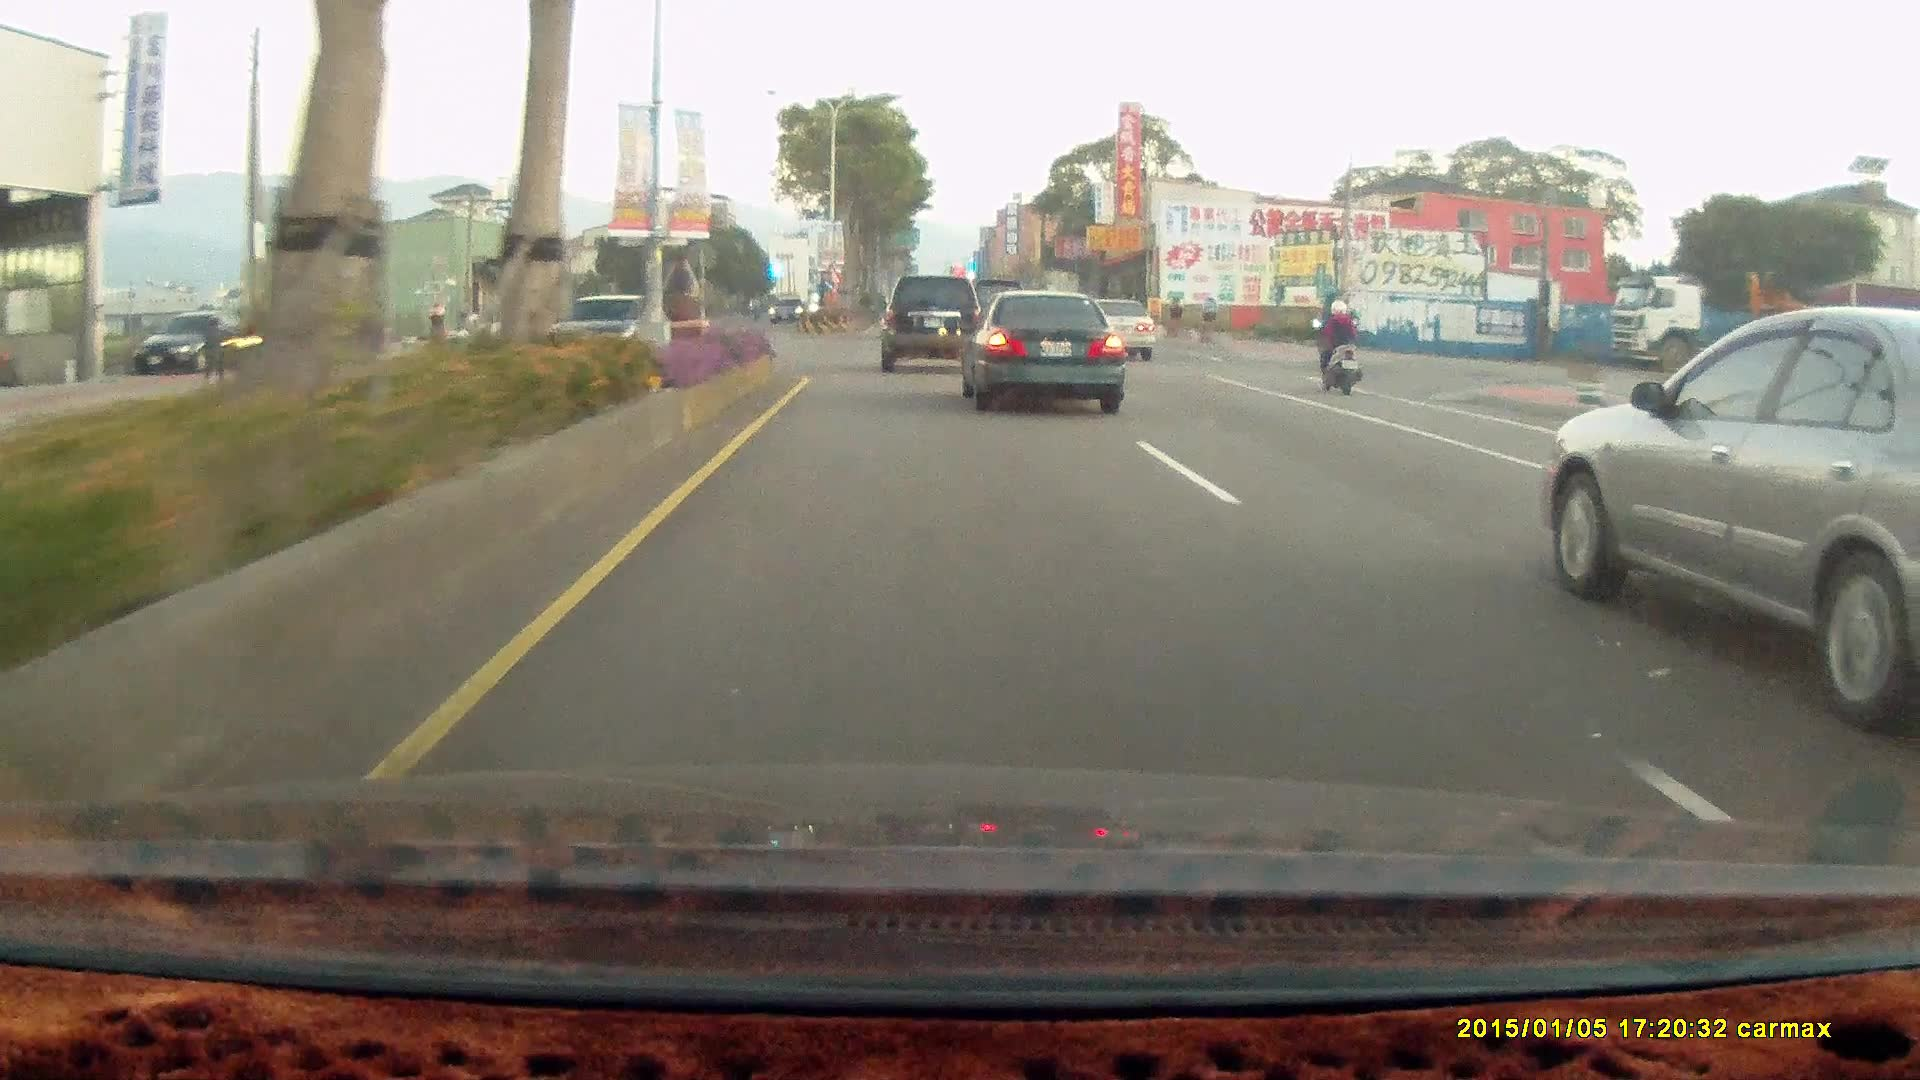pedestrian: (200, 314, 228, 385)
rider: (1303, 291, 1371, 401), (1308, 292, 1364, 389)
vehicle: (1539, 307, 1920, 735), (1607, 272, 1920, 370), (951, 290, 1119, 413), (966, 294, 1130, 415), (880, 274, 988, 374), (879, 275, 982, 373), (548, 289, 666, 373), (125, 310, 234, 378), (131, 313, 240, 377), (1075, 297, 1159, 364), (768, 297, 808, 324), (768, 297, 807, 324)
